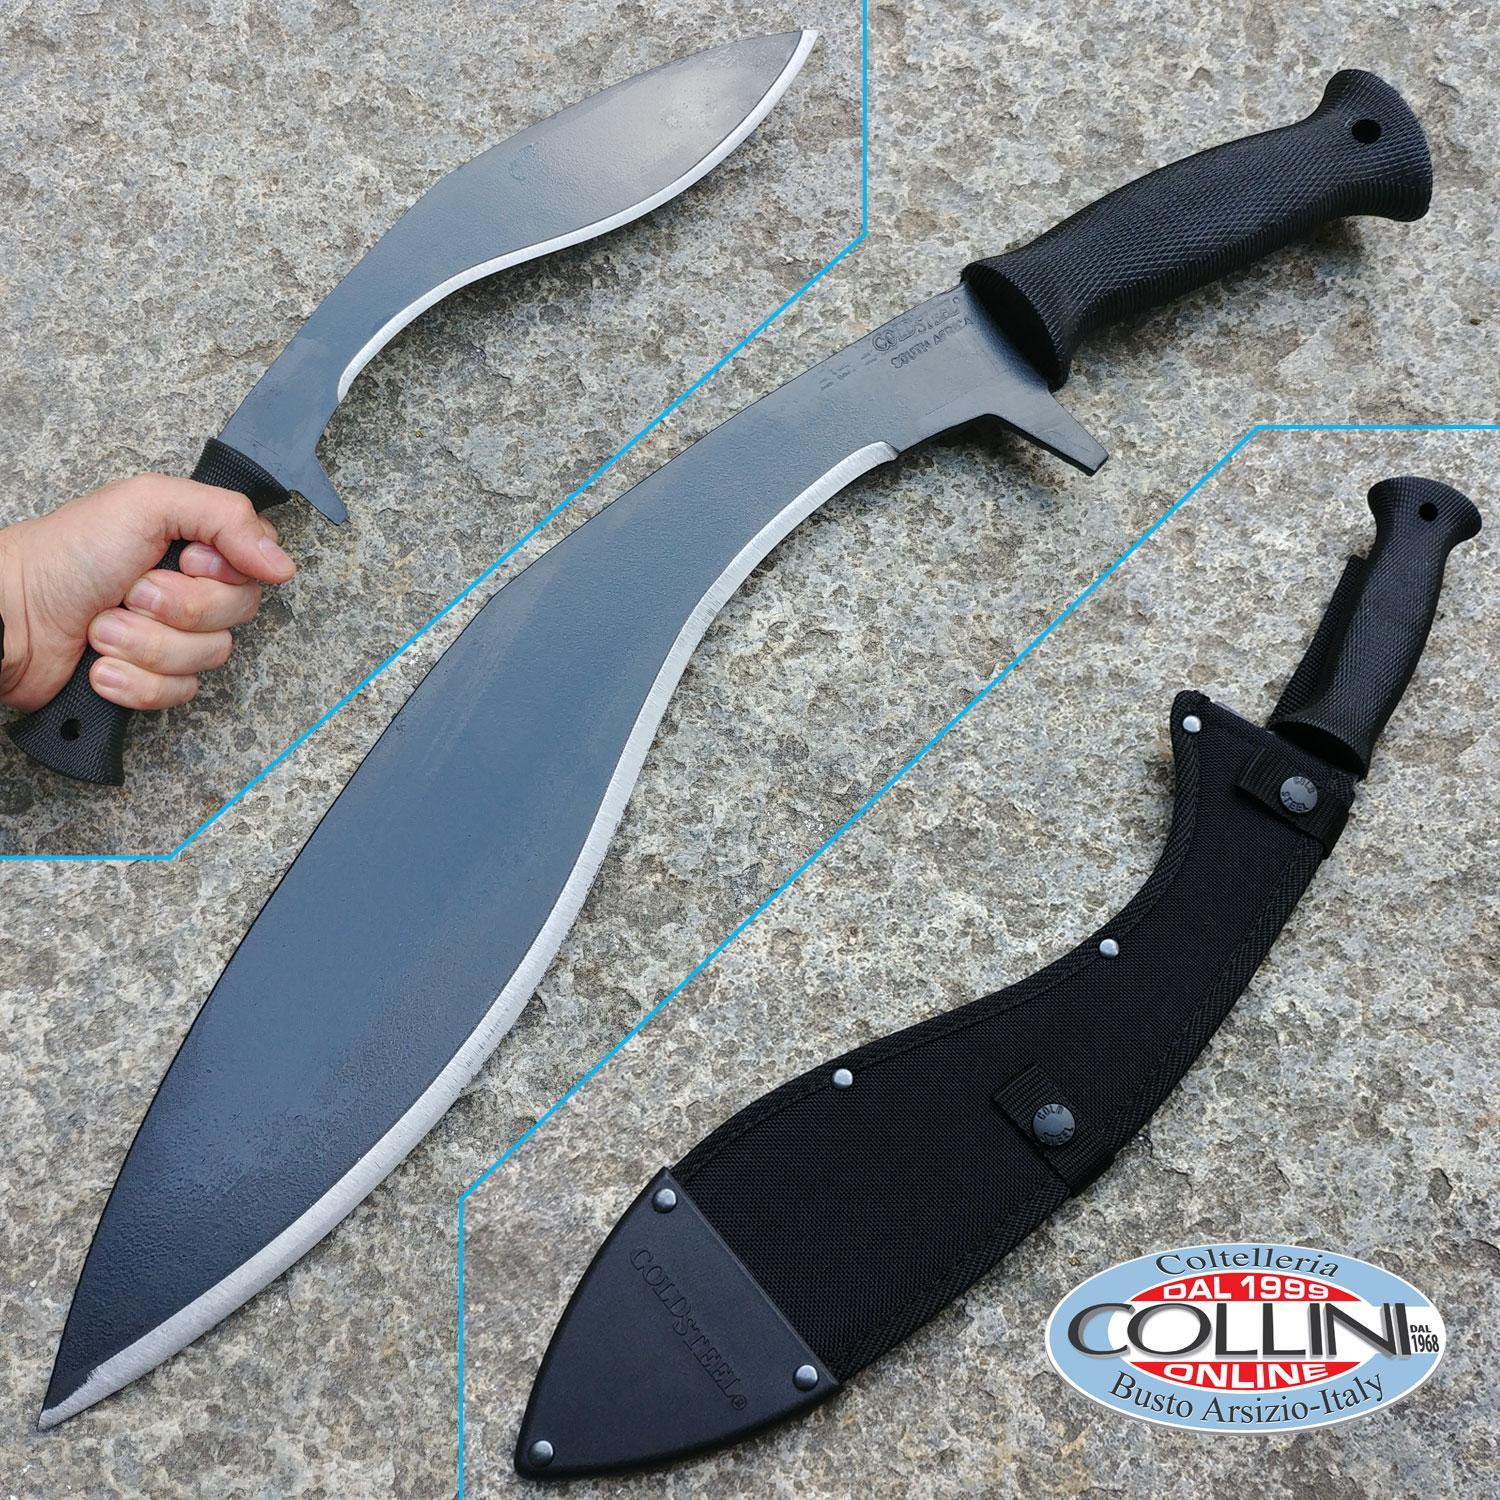facao: (41, 69, 1431, 1427), (516, 479, 1477, 1474), (194, 32, 815, 522)
